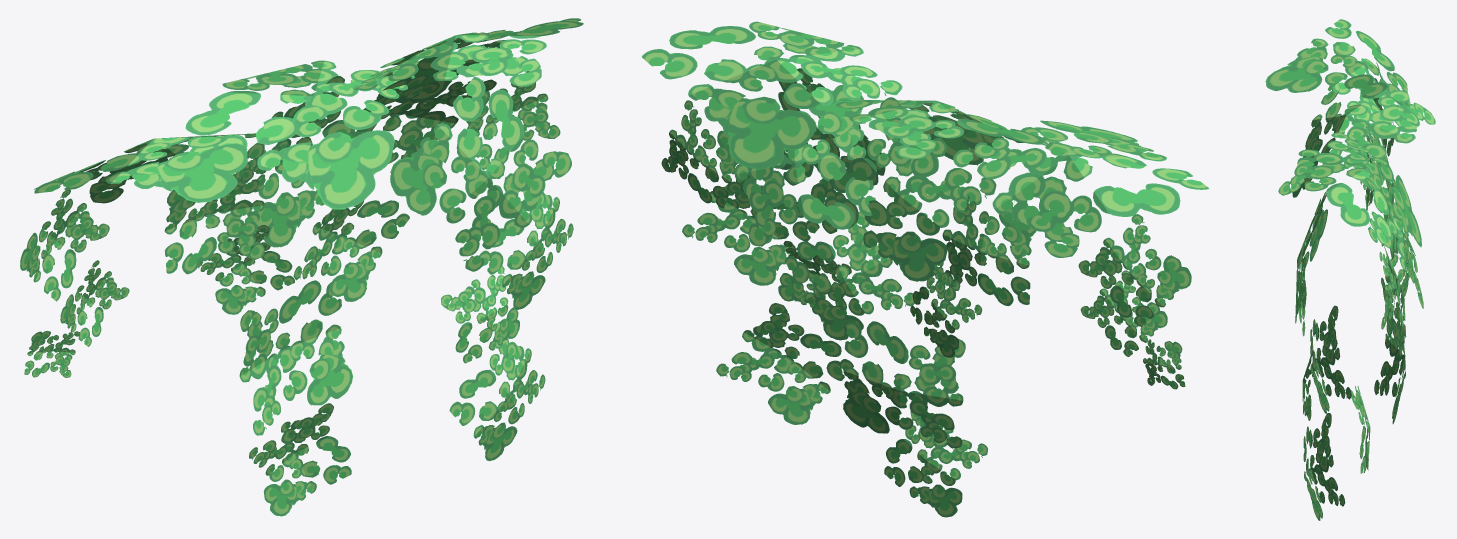
Rendered from VINES#1.fbx.
3 views of the same model, side by side, from view 1: azimuth 30°, elevation 25°; view 2: azimuth 150°, elevation 25°; view 3: azimuth 270°, elevation 25° (orthographic). The views are drawn at different scales.
Visible parts, largest first — view 1: leaves 2; view 2: leaves 2; view 3: leaves 2.
Part boxes in pixels (left/top/right/bottom): leaves 2: left=20, top=18, right=583, bottom=516; leaves 2: left=642, top=21, right=1209, bottom=517; leaves 2: left=1265, top=19, right=1435, bottom=520.
Size of the model in its own units: 901 by 638 by 292.
